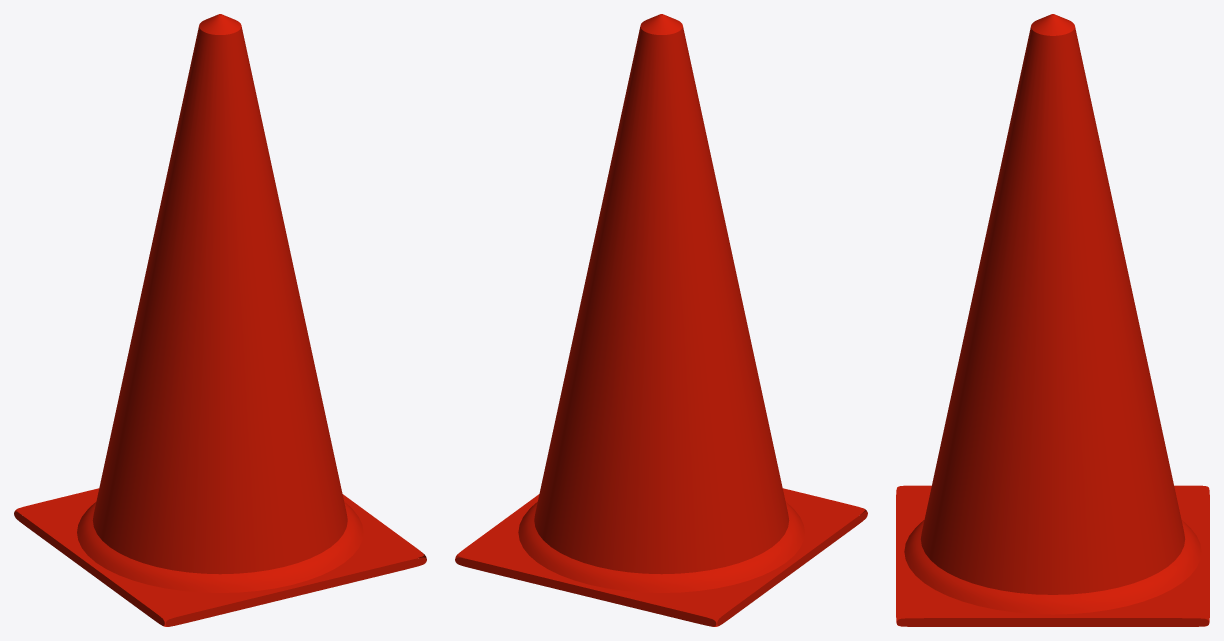
File: traffic_cone.fbx
3 renders of one model, left to right at view 1: azimuth 30°, elevation 25°; view 2: azimuth 150°, elevation 25°; view 3: azimuth 270°, elevation 25°, orthographic. The views are drawn at different scales.
Visible parts, largest first — view 1: Traffic Cone; view 2: Traffic Cone; view 3: Traffic Cone.
Part boxes in pixels (x1,y1,x2,y2): Traffic Cone: [14, 14, 426, 626]; Traffic Cone: [455, 14, 867, 626]; Traffic Cone: [896, 14, 1209, 626].
Bounding box in the file's own units: 308 × 591 × 308.
